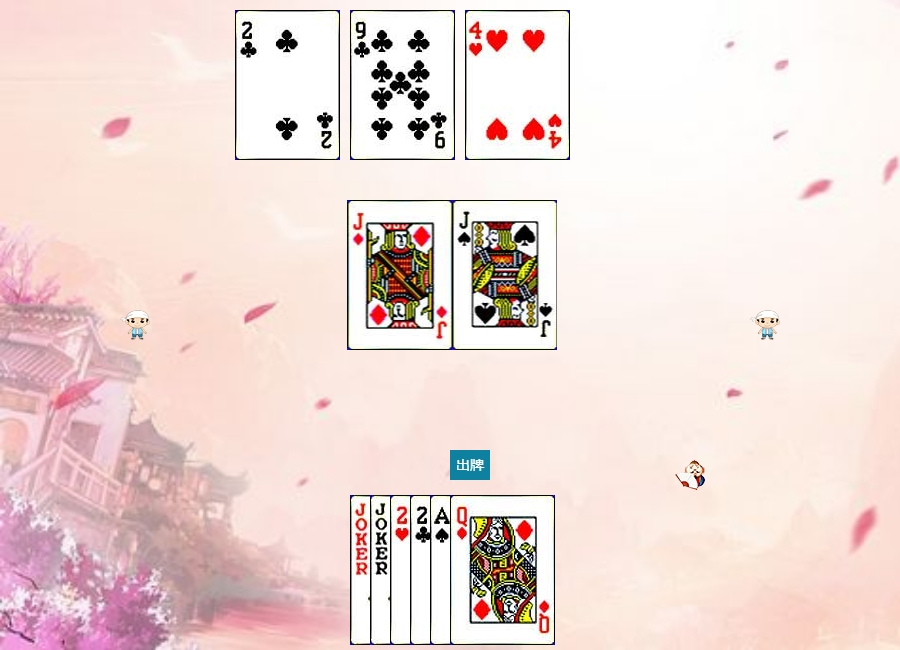11~1: (348, 200, 453, 350)
11~4: (453, 200, 558, 350)
12~1: (450, 495, 555, 645)
14~4: (430, 495, 535, 645)
15~2: (235, 10, 340, 160), (410, 495, 515, 645)
15~3: (390, 495, 495, 645)
17~3: (370, 495, 475, 645)
18~4: (350, 495, 455, 645)
4~3: (465, 10, 570, 160)
9~2: (350, 10, 455, 160)
